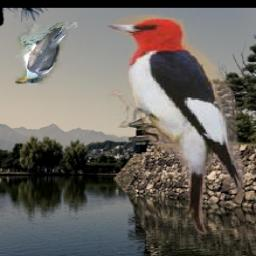Cuckoo: (16, 22, 78, 84)
Woodpecker: (108, 15, 243, 234)
